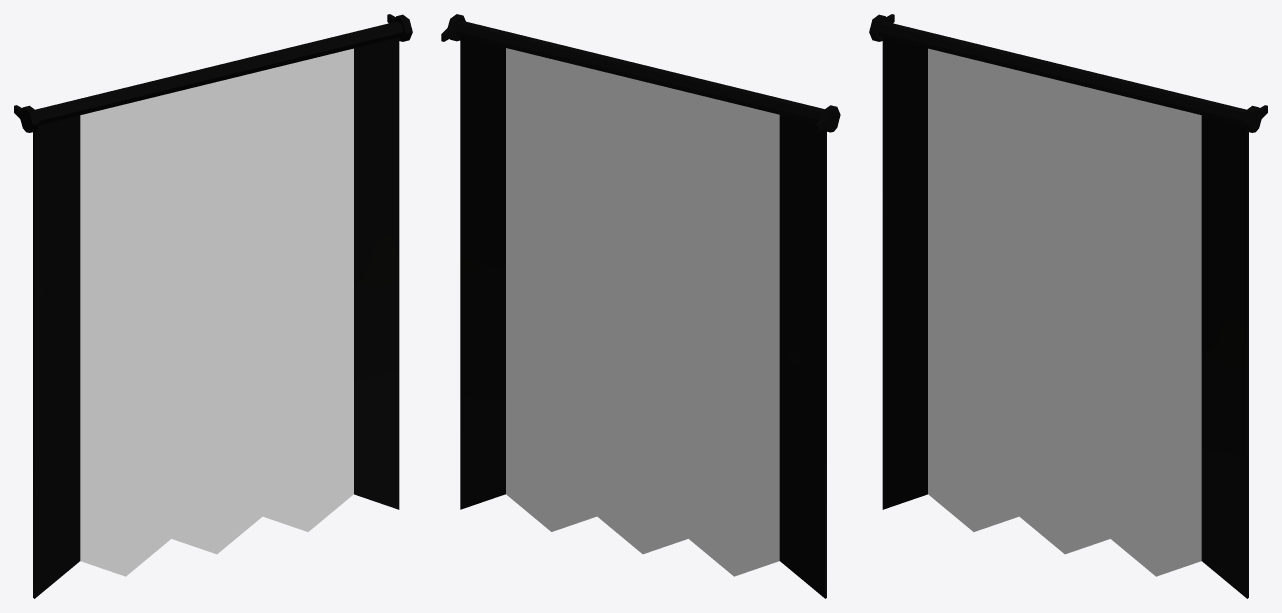
The model's file is Banner_04.fbx.
The picture shows the model from 3 angles, left to right: view 1: azimuth 30°, elevation 25°; view 2: azimuth 150°, elevation 25°; view 3: azimuth 330°, elevation 25°; orthographic projection.
Parts seen in each view (by area): view 1: Banner_04; view 2: Banner_04; view 3: Banner_04.
Part boxes in pixels (x1,y1,x2,y2): Banner_04: (14,14,412,598); Banner_04: (441,14,840,598); Banner_04: (869,14,1267,598).
Bounding box in the file's own units: 115 × 141 × 10.81.
